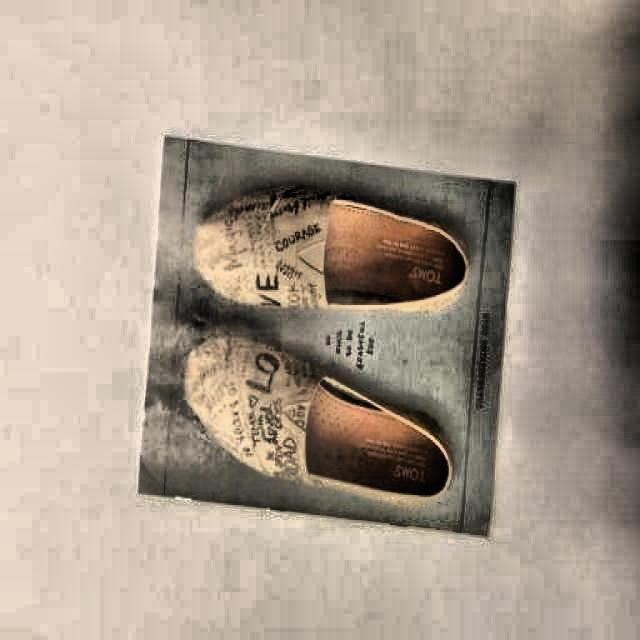Paper: (136, 133, 515, 535)
